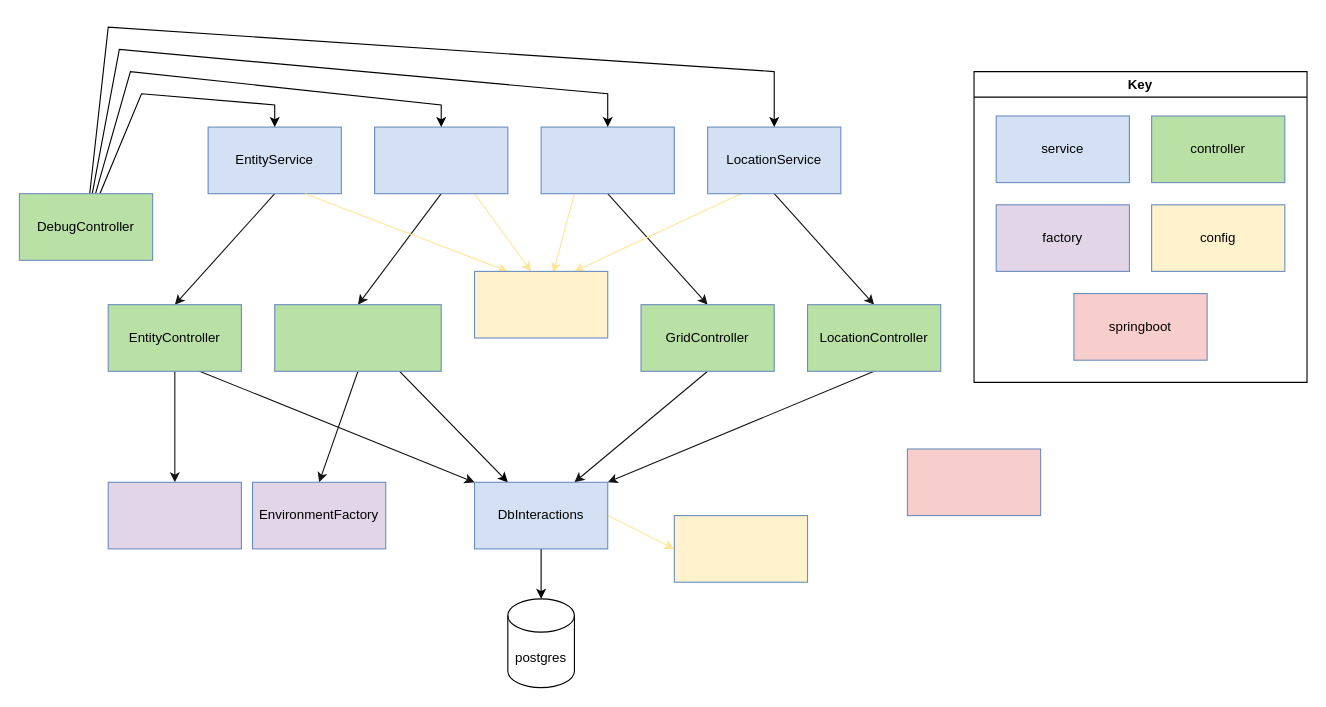
Some shapes in this 1326 by 707 pixel diagram are drawn without their labels. The box of each missing label's shape, as (x1, y1, x2, y2) in pixels:
DbConfig: (673, 514, 808, 582)
EntityFactory: (107, 481, 241, 549)
EnvironmentController: (274, 304, 441, 371)
EnvironmentService: (374, 126, 508, 194)
GridService: (540, 126, 674, 194)
ServiceConfig: (473, 270, 608, 338)
VironApplication: (906, 448, 1041, 516)
